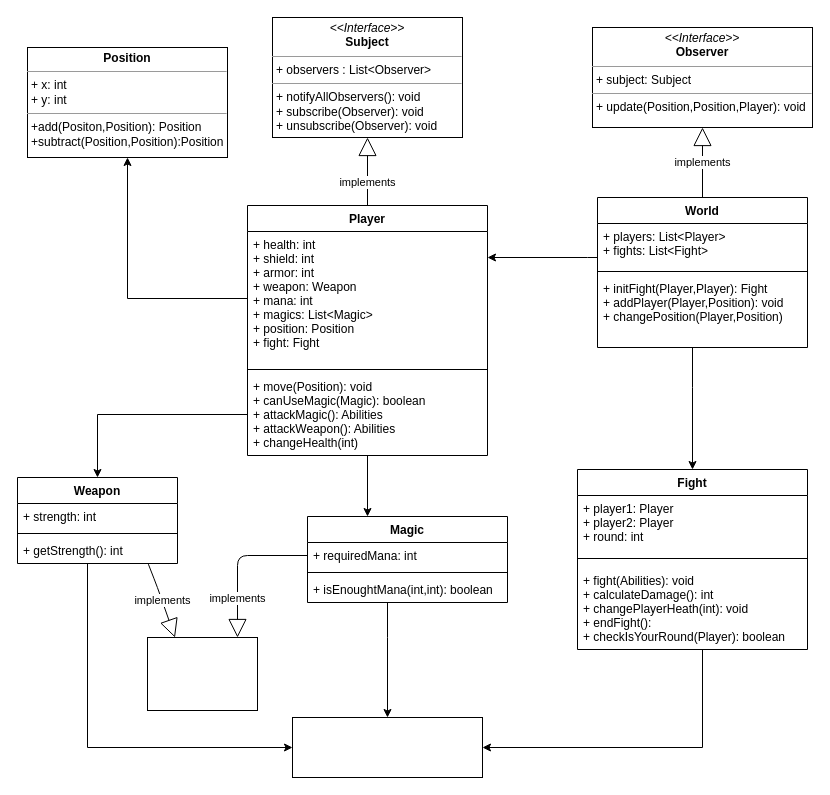
This 830x795 diagram has some shape labels left out. Each missing label, with the centre of its shape:
"<<Interface>> Abilities + getDamage(): int" goes at point 202,673.
"Random + getRandom(int start,int end): int" goes at point 387,747.
